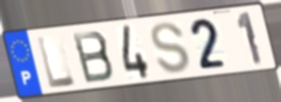1: (235, 10, 265, 68)
2: (191, 16, 232, 73)
4: (121, 23, 152, 82)
B: (70, 29, 117, 86)
L: (35, 34, 78, 91)
S: (148, 21, 192, 76)
